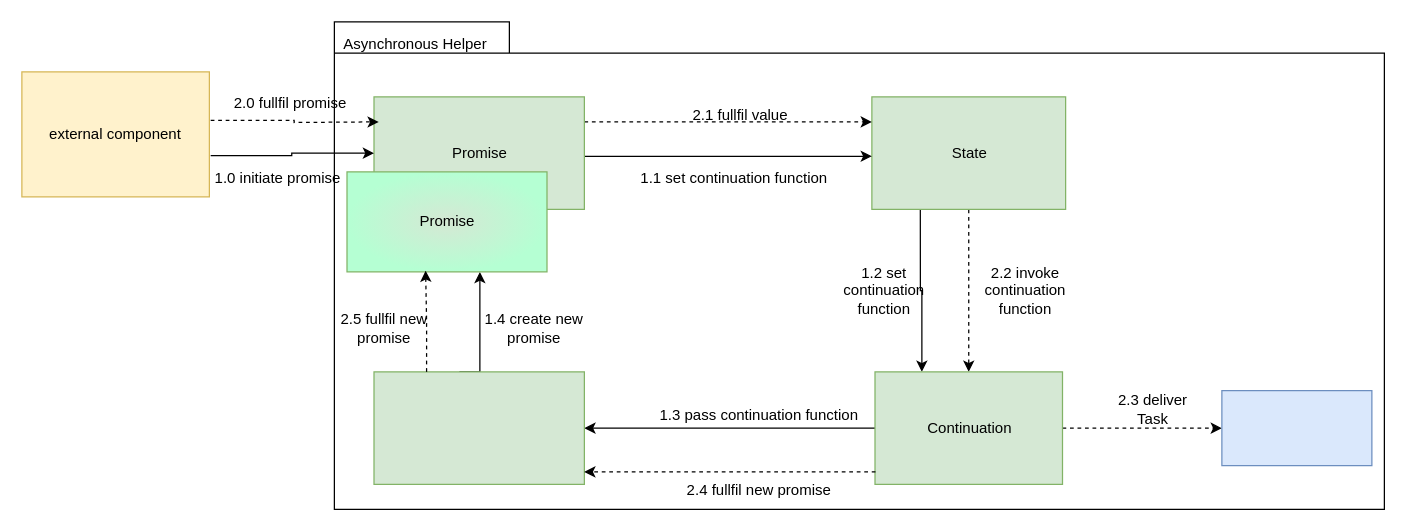
Some shapes in this 1406 by 531 pixel diagram are drawn without their labels. Each missing label, with the centre of its shape:
"Invocation" belongs at pixel 478 427.
"Task executor" belongs at pixel 1296 427.
